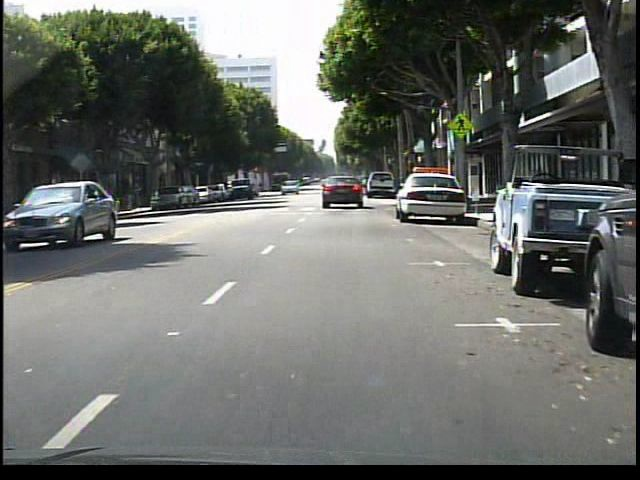person: (30, 179, 52, 227)
